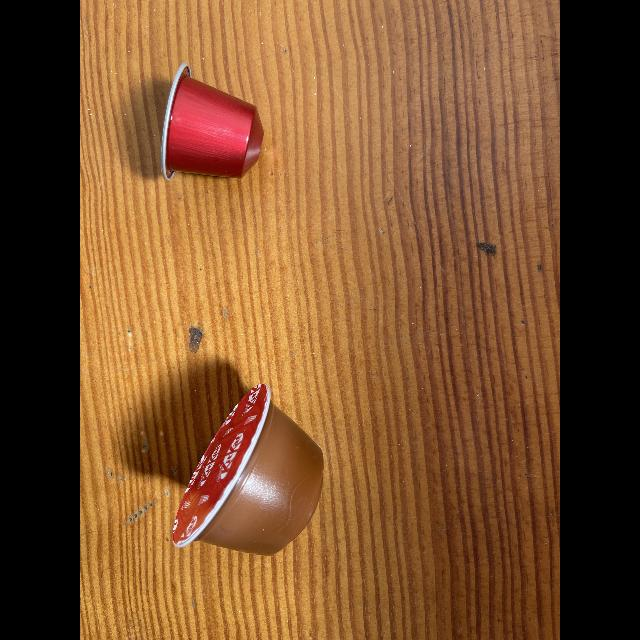intact_capsule: (152, 368, 352, 574), (142, 60, 276, 198)
